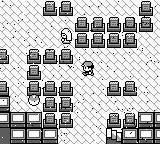main: (81, 61, 94, 76)
no-caminable: (74, 0, 154, 49), (26, 49, 74, 128), (1, 95, 58, 143), (123, 111, 160, 143), (106, 80, 137, 96), (108, 112, 139, 128), (43, 0, 71, 15), (0, 81, 10, 96), (0, 49, 9, 64)
npc: (60, 29, 72, 43)
poke-ball: (28, 94, 41, 106)
puerta: (106, 129, 122, 144)
